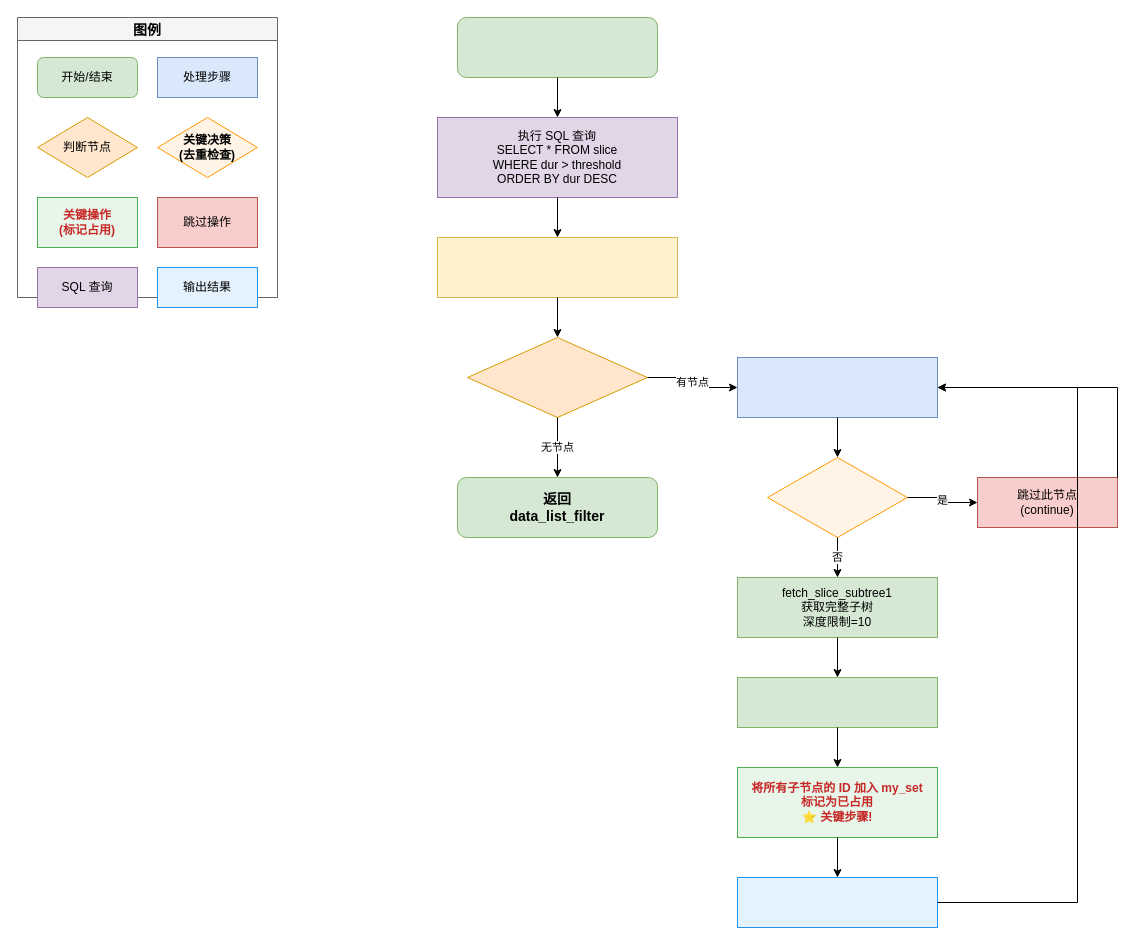
Image size: 1143x945. Some labels were removed from this diagram. Each missing label, with the centre of its shape:
collect_matching_nodes 筛选满足条件的子节点: (x=837, y=702)
slice_id in my_set?: (x=837, y=497)
初始化 my_set = 空集合 data_list_filter = 空列表: (x=557, y=267)
将根节点加入 data_list_filter: (x=837, y=902)
开始 get_analyze_stack(): (x=557, y=47)
获取当前节点 method_name, dur, depth, slice_id: (x=837, y=387)
遍历 data_list 还有节点?: (x=557, y=377)
